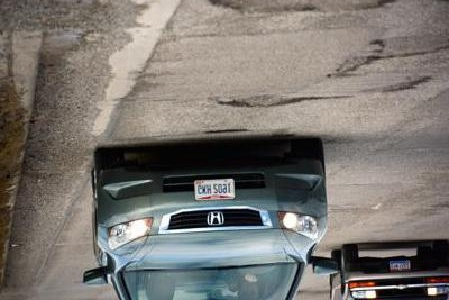pothole: (203, 0, 394, 14), (213, 90, 300, 110)
